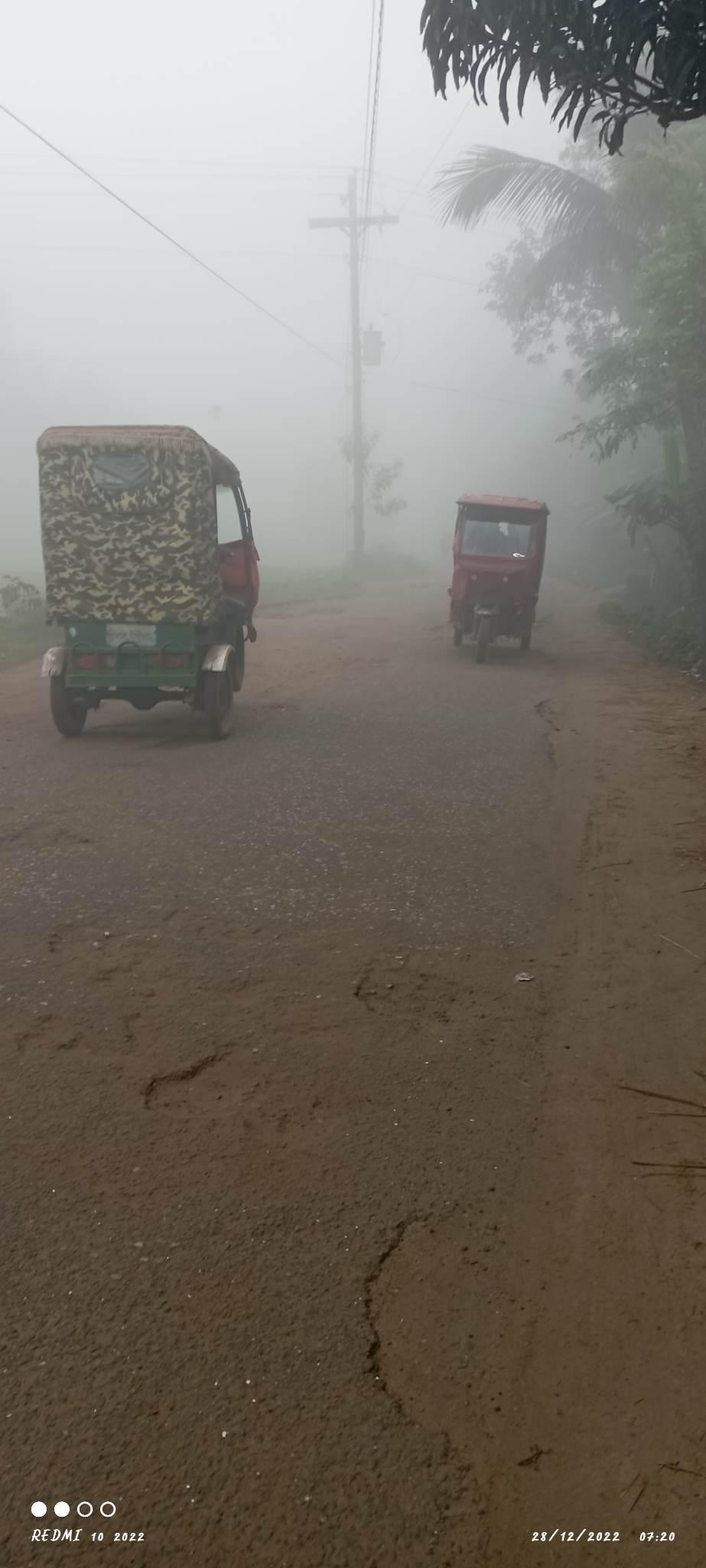Car: (19, 403, 330, 748), (436, 466, 566, 691)
